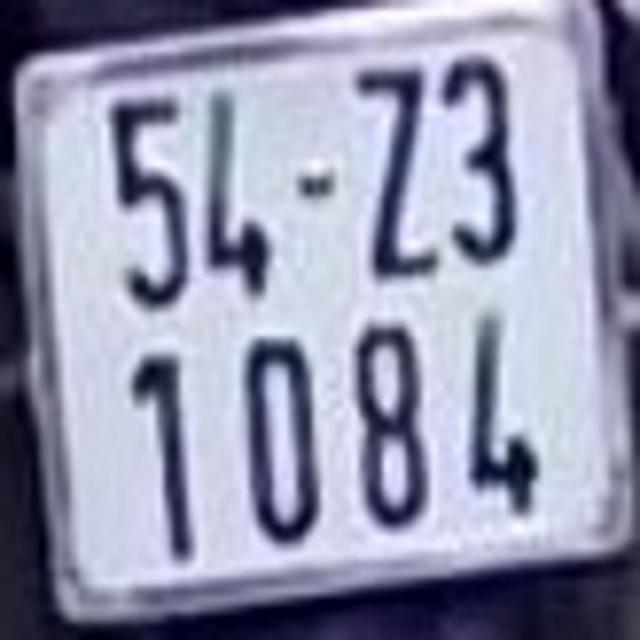0: (240, 336, 318, 543)
1: (126, 352, 193, 560)
3: (444, 52, 518, 266)
4: (466, 316, 540, 516), (208, 88, 272, 294)
5: (114, 97, 192, 306)
8: (349, 321, 427, 530)
Z: (356, 62, 446, 268)
